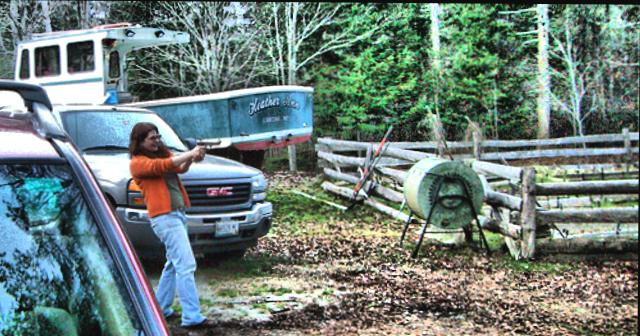pistol: (194, 136, 222, 159)
